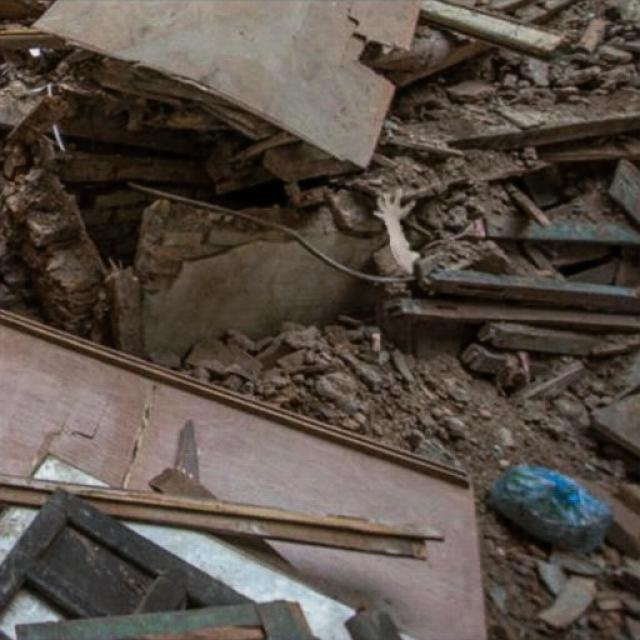Person in Rubble: (372, 189, 418, 350)
